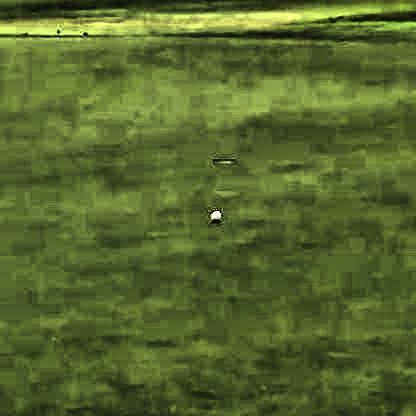golfball: (209, 208, 221, 222)
